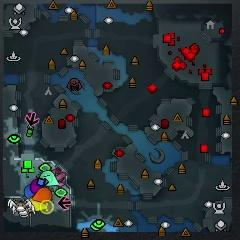p1: (25, 184, 35, 198)
p2: (39, 170, 59, 186)
p3: (31, 179, 42, 193)
p4: (28, 198, 48, 211)
p5: (32, 188, 52, 203)
x1: (52, 169, 66, 186)
x1Clone: (25, 112, 39, 126), (58, 197, 71, 210)
